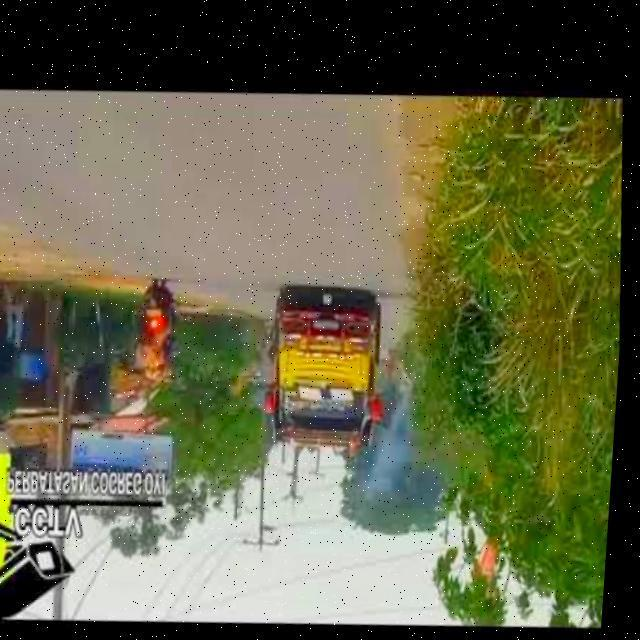truck: (256, 275, 396, 465)
